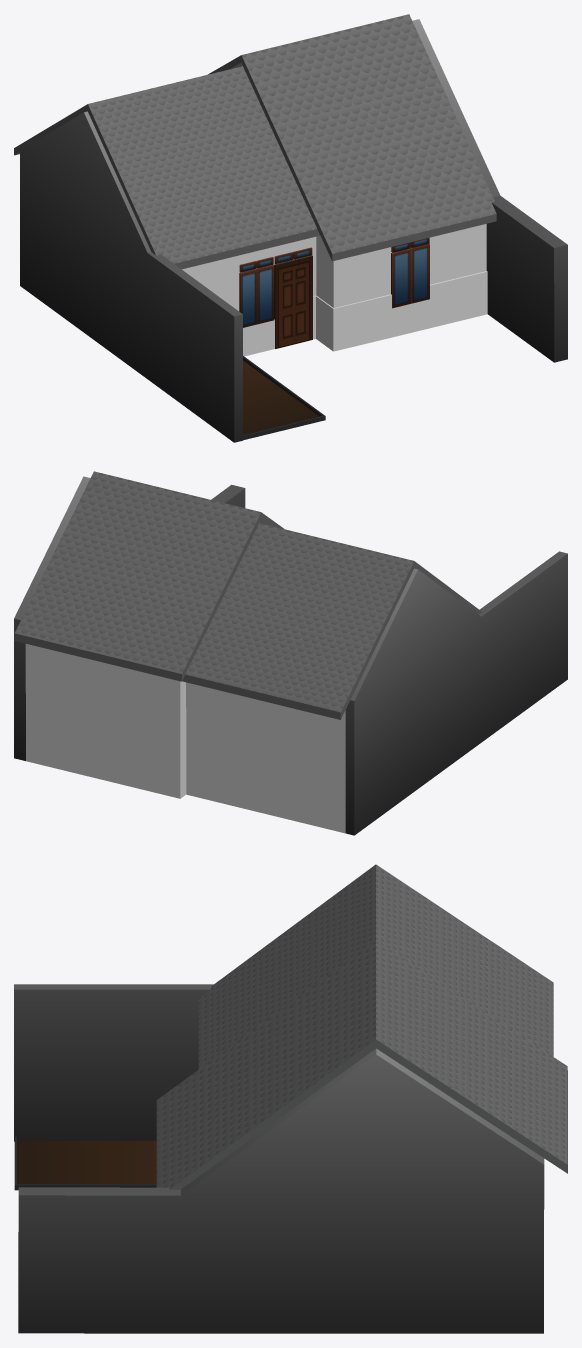
Rendered from NPCRumah2.fbx.
The picture shows the model from 3 angles, top to bottom: view 1: azimuth 30°, elevation 25°; view 2: azimuth 150°, elevation 25°; view 3: azimuth 270°, elevation 25°; orthographic projection. The views are drawn at different scales.
Parts seen in each view (by area): view 1: RoofNPC2_LOD0, WallNPC2_LOD0, Wall3NPC2_LOD0, Body1NPC2_LOD0, DoorNPC2_LOD0, Body2NPC2_LOD0; view 2: RoofNPC2_LOD0, Body1NPC2_LOD0, WallNPC2_LOD0, Wall3NPC2_LOD0; view 3: Wall3NPC2_LOD0, RoofNPC2_LOD0, WallNPC2_LOD0.
Part boxes in pixels (x1,y1,x2,y2): RoofNPC2_LOD0: (14, 14, 496, 269); WallNPC2_LOD0: (20, 111, 325, 442); Wall3NPC2_LOD0: (412, 19, 567, 362); Body1NPC2_LOD0: (182, 65, 486, 311); DoorNPC2_LOD0: (239, 237, 429, 348); Body2NPC2_LOD0: (243, 271, 487, 356); RoofNPC2_LOD0: (14, 471, 482, 719); Body1NPC2_LOD0: (25, 644, 345, 833); WallNPC2_LOD0: (345, 551, 567, 835); Wall3NPC2_LOD0: (14, 476, 245, 760); Wall3NPC2_LOD0: (18, 1048, 544, 1333); RoofNPC2_LOD0: (156, 864, 567, 1189); WallNPC2_LOD0: (14, 984, 213, 1190).
Size of what is drawn, in the model's own units: 1823 by 1243 by 2164.
